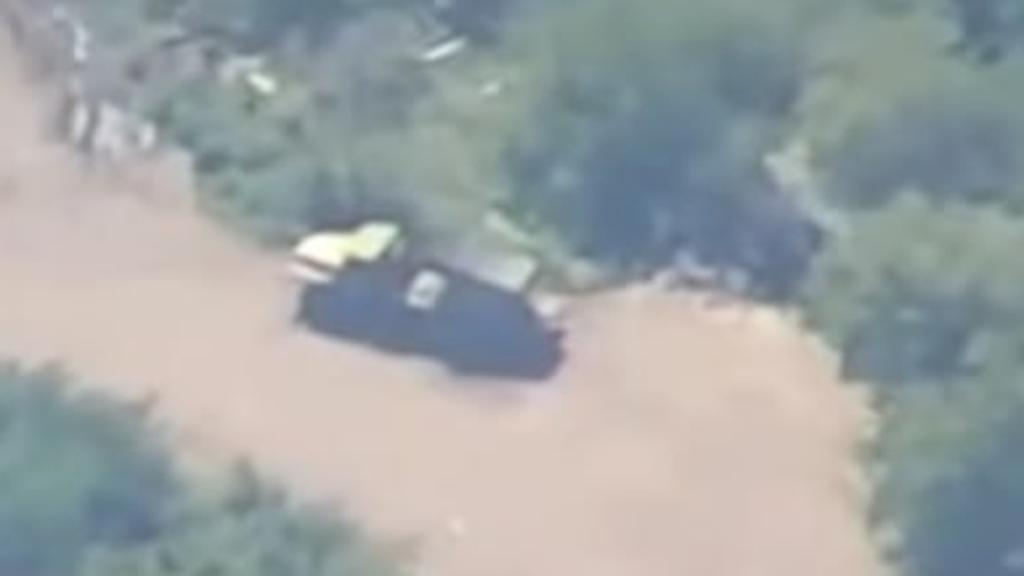MLRS: (280, 202, 546, 374)
